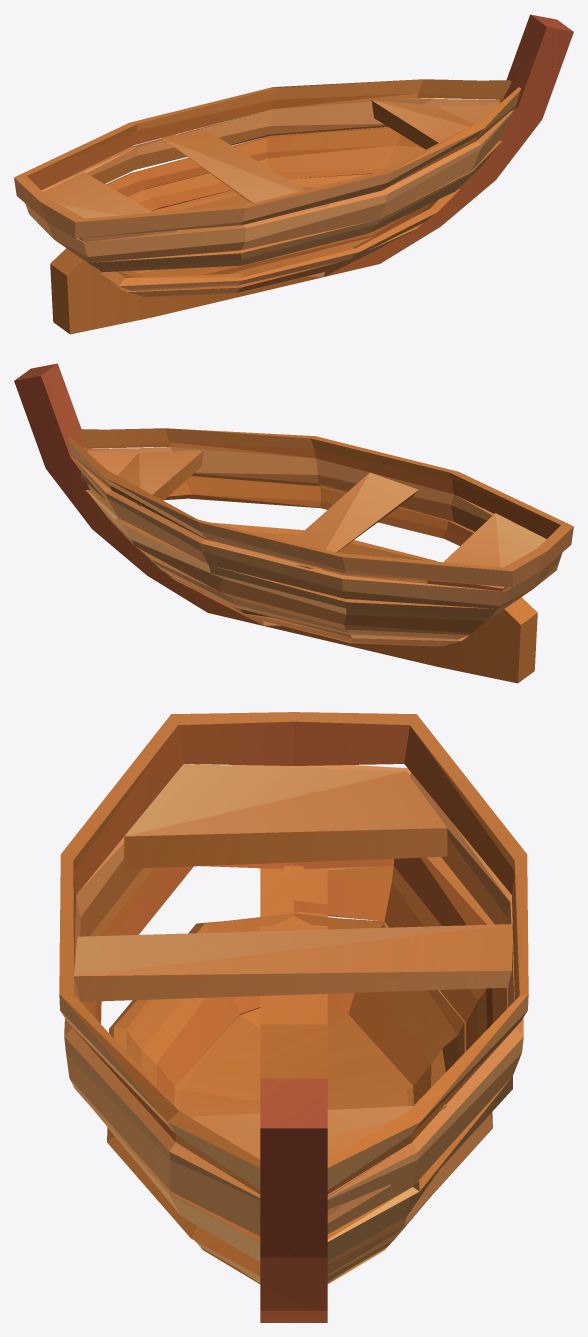
Rendered from GL-Manmade-13-LOD2.fbx.
3 renders of one model, top to bottom at view 1: azimuth 30°, elevation 25°; view 2: azimuth 150°, elevation 25°; view 3: azimuth 270°, elevation 25°, orthographic. The views are drawn at different scales.
Parts seen in each view (by area): view 1: GL_Manmade_13; view 2: GL_Manmade_13; view 3: GL_Manmade_13.
Boxes of the visible parts, box(x1,y1,x2,y2) form: GL_Manmade_13: box(14, 14, 573, 334); GL_Manmade_13: box(14, 363, 573, 683); GL_Manmade_13: box(59, 712, 528, 1322).
Size of the model in its own units: 3.17 by 1.13 by 1.23.
